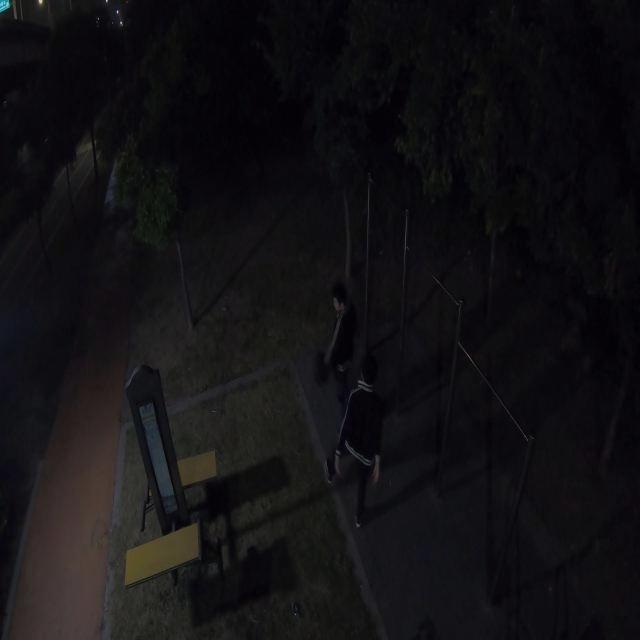fight: (306, 274, 387, 531)
